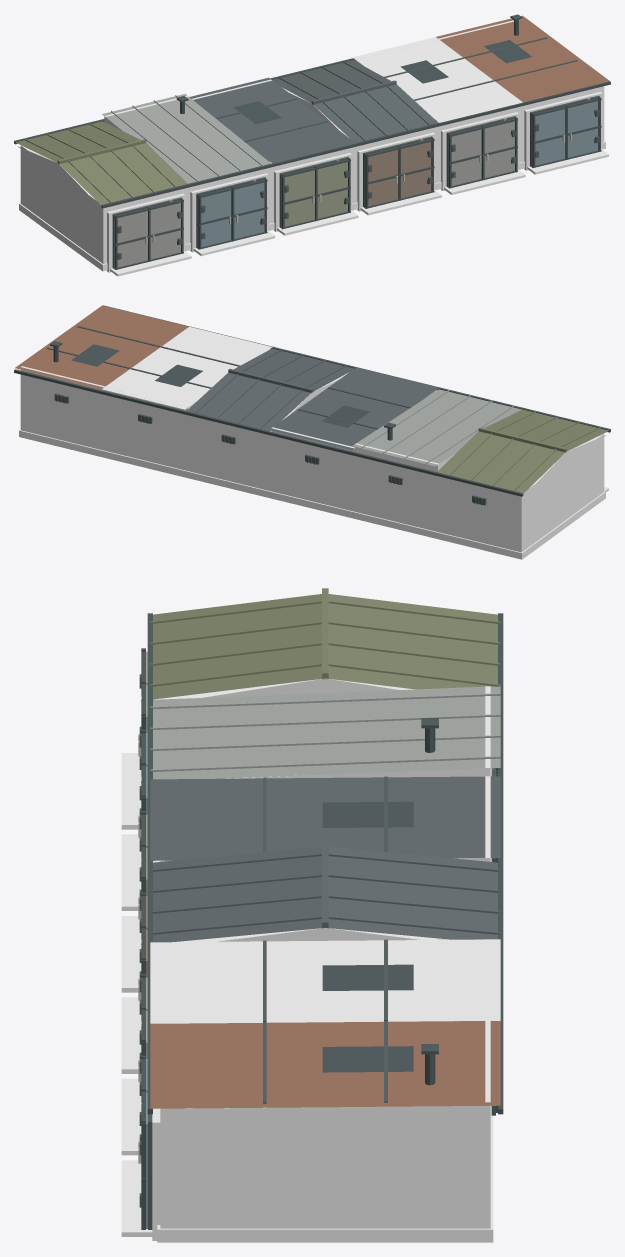
The model's file is frontier_garage_row_3.glb.
3 renders of one model, top to bottom at view 1: azimuth 30°, elevation 25°; view 2: azimuth 150°, elevation 25°; view 3: azimuth 270°, elevation 25°, orthographic. The views are drawn at different scales.
Parts seen in each view (by area): view 1: frontier_garage_row_3; view 2: frontier_garage_row_3; view 3: frontier_garage_row_3.
Part boxes in pixels (box(x1,y1,x2,y2)): frontier_garage_row_3: box(14, 14, 610, 276); frontier_garage_row_3: box(14, 305, 610, 559); frontier_garage_row_3: box(121, 588, 503, 1242).
Bounding box in the file's own units: 21.3 × 3.55 × 6.93.
